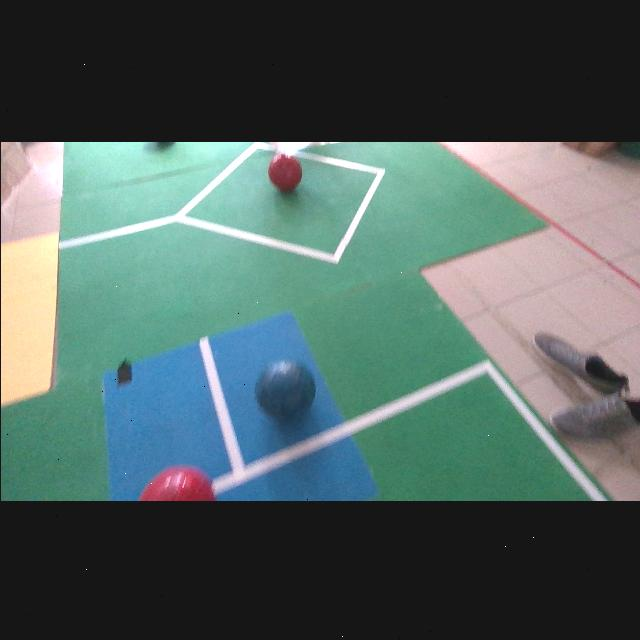B: (254, 358, 314, 418)
R: (137, 464, 215, 499), (267, 151, 302, 189)
